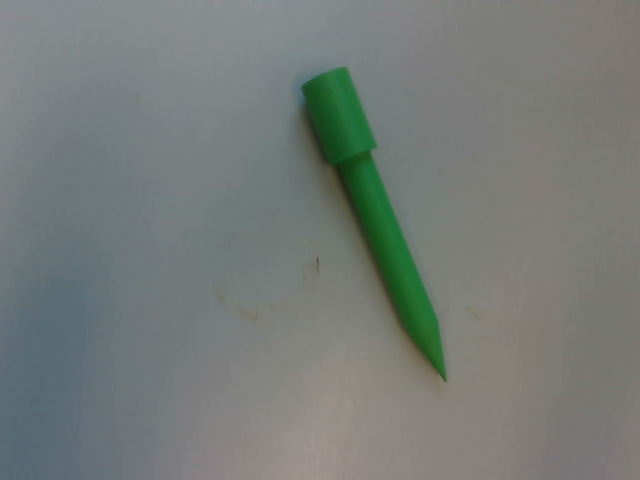Probe: (297, 59, 453, 388)
